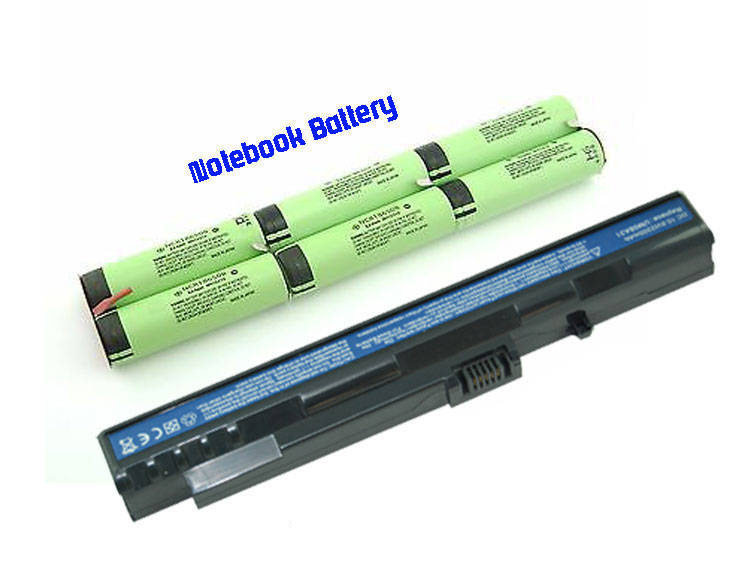Battery: (76, 208, 271, 323), (256, 143, 431, 255), (413, 92, 584, 190)
